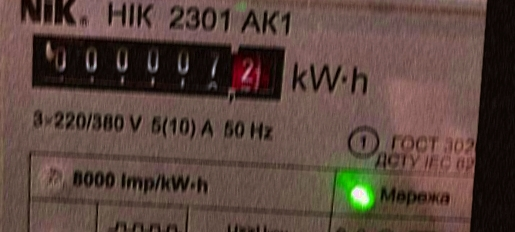0: (111, 46, 131, 74), (50, 45, 69, 74), (81, 46, 100, 75), (173, 48, 191, 77), (143, 46, 160, 74)
2: (237, 56, 255, 86)
7: (202, 51, 221, 81)
screen: (19, 21, 297, 113)
